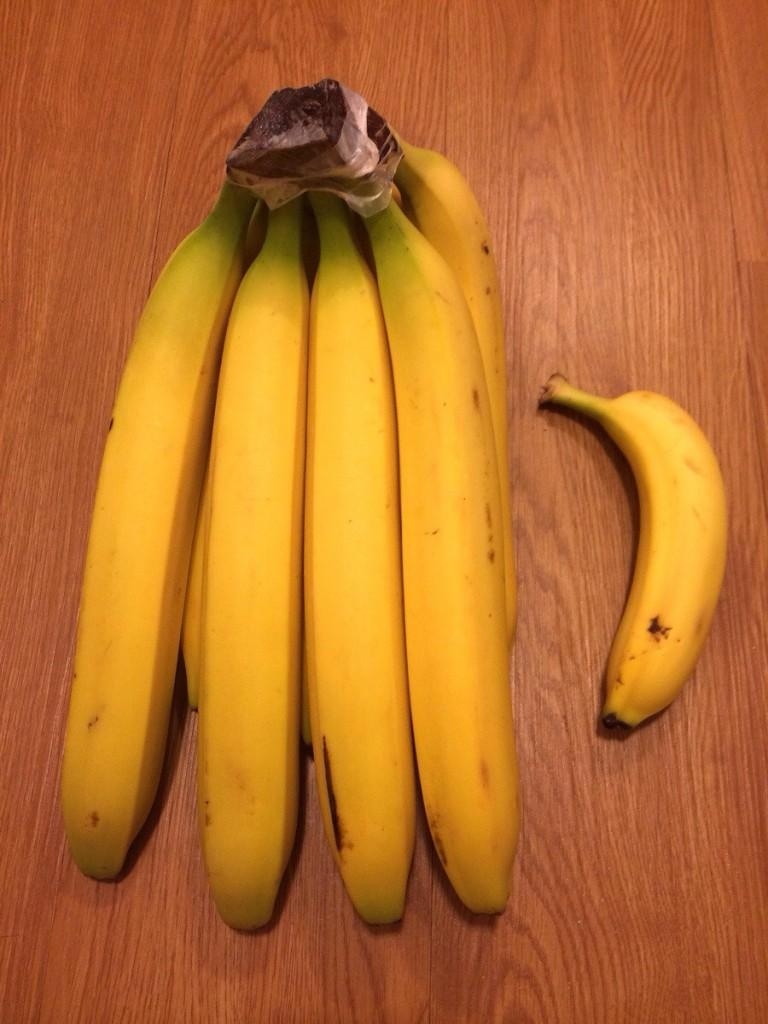Banana Fresh: (100, 50, 575, 945)
